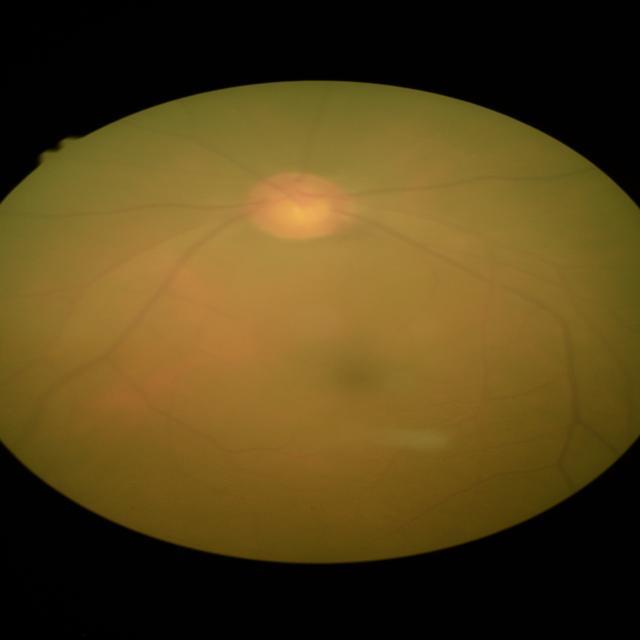cup: (269, 189, 333, 223)
disk: (245, 170, 353, 240)
